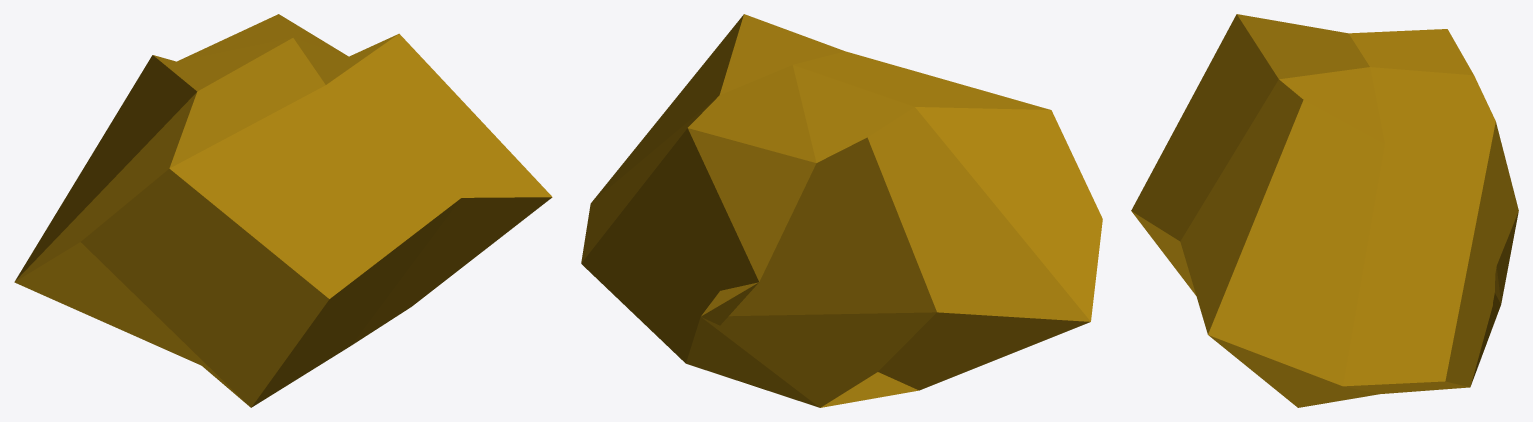
The model's file is rock2.fbx.
3 renders of one model, left to right at view 1: azimuth 30°, elevation 25°; view 2: azimuth 150°, elevation 25°; view 3: azimuth 270°, elevation 25°, orthographic. The views are drawn at different scales.
Visible parts, largest first — view 1: pPlatonic1; view 2: pPlatonic1; view 3: pPlatonic1.
Boxes of the visible parts, bbox=[...] form: pPlatonic1: bbox=[14, 14, 552, 407]; pPlatonic1: bbox=[581, 14, 1102, 407]; pPlatonic1: bbox=[1131, 14, 1518, 407].
Size of the model in its own units: 4.14 by 2.52 by 2.6.
